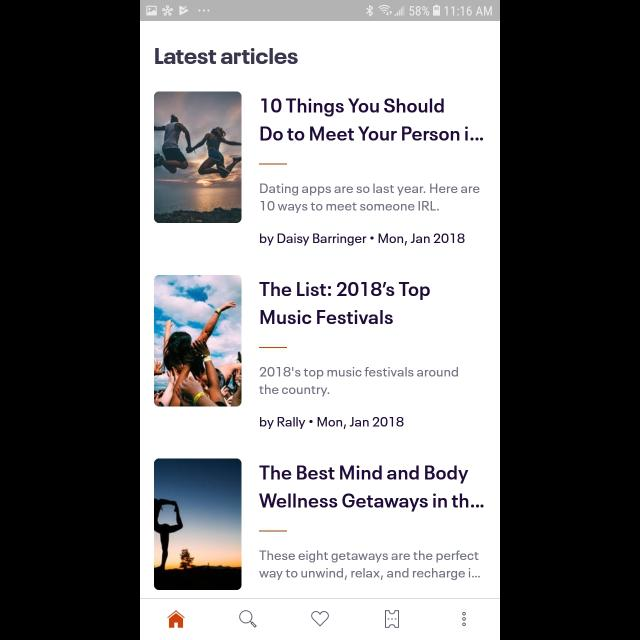icon: (167, 610, 185, 628), (240, 609, 256, 627), (311, 610, 329, 626), (385, 610, 399, 628), (462, 612, 466, 626)
image: (154, 92, 242, 224), (154, 458, 242, 590), (154, 276, 242, 406)
text: (260, 465, 484, 511), (261, 99, 484, 141), (258, 282, 430, 324), (260, 551, 480, 581), (260, 183, 480, 213), (260, 368, 458, 397), (260, 234, 464, 246), (154, 48, 298, 64), (260, 417, 404, 429)
uppertaskbar: (140, 1, 500, 22)
